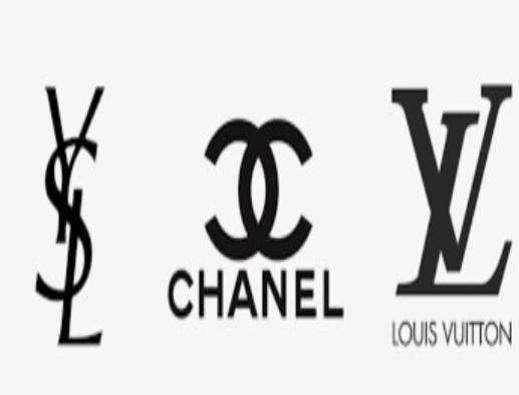LOUIS-VUITTON: (384, 70, 513, 308), (389, 313, 519, 363)
